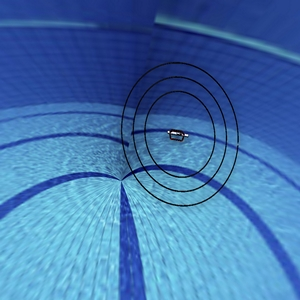circle: (111, 51, 248, 212)
submarine: (160, 123, 193, 149)
